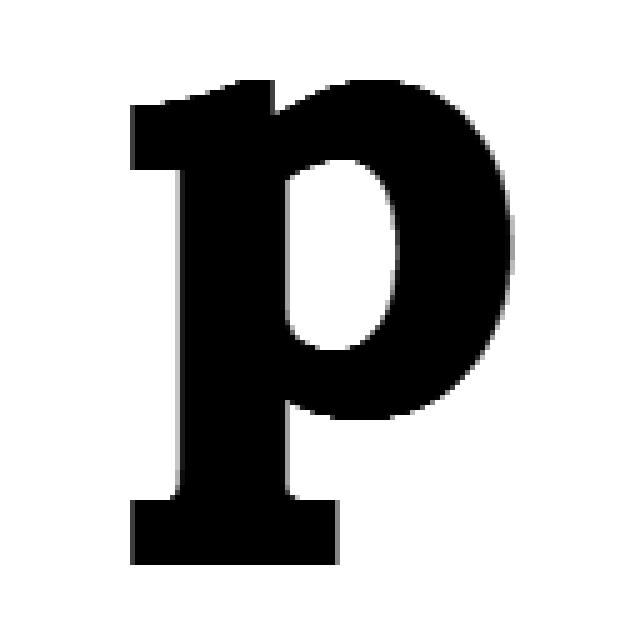P: (130, 80, 510, 570)
